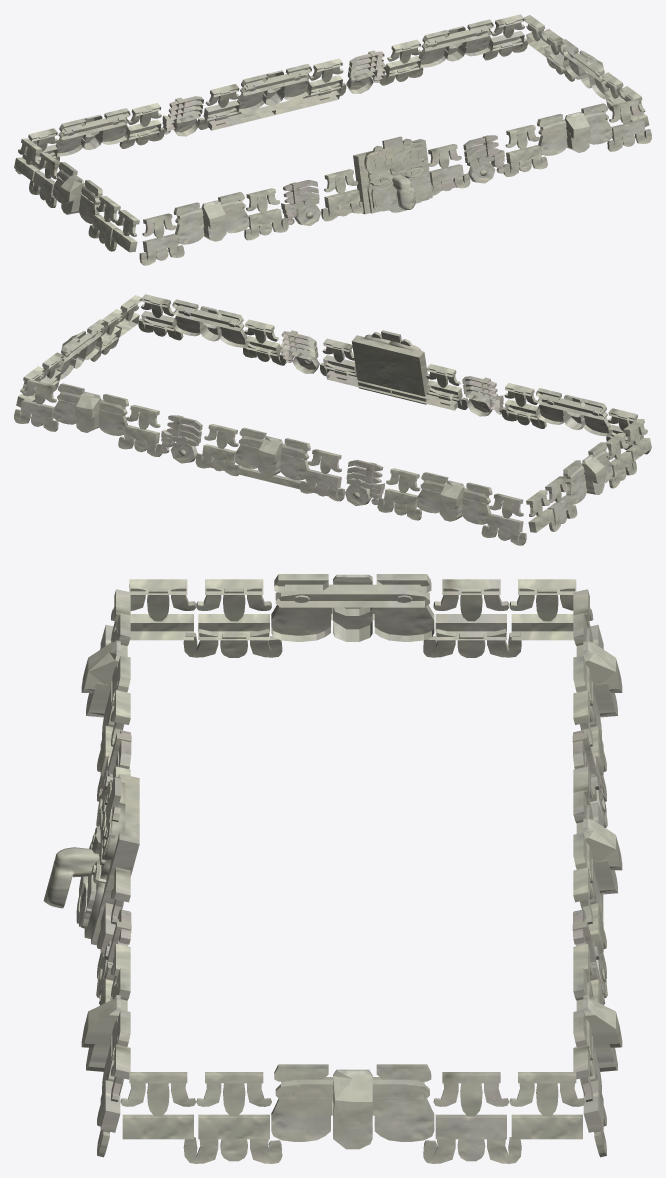
The model's file is cc_masks.dae.
3 views of the same model, one above another, from view 1: azimuth 30°, elevation 25°; view 2: azimuth 150°, elevation 25°; view 3: azimuth 270°, elevation 25° (orthographic). The views are drawn at different scales.
Parts seen in each view (by area): view 1: cc_masks; view 2: cc_masks; view 3: cc_masks.
Part boxes in pixels (<box>): cc_masks: <box>14,14,651,265</box>; cc_masks: <box>14,294,651,545</box>; cc_masks: <box>43,574,622,1163</box>.
Size of the model in its own units: 21.96 by 10.24 by 2.58.
